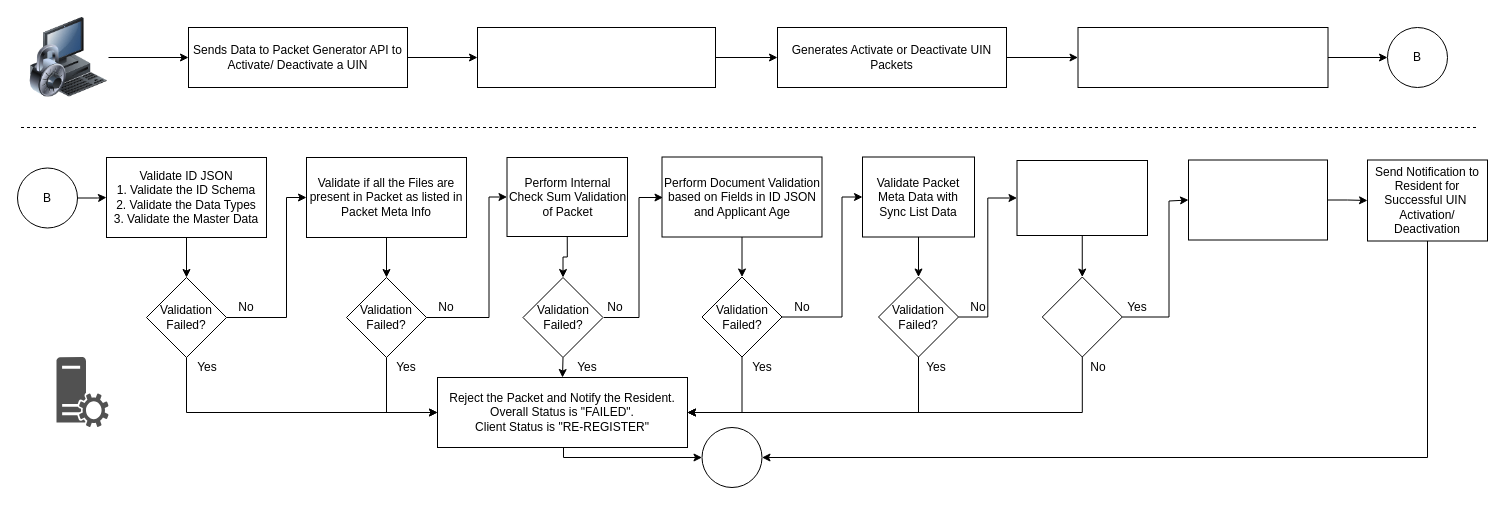
This 1505x505 diagram has some shape labels left out. The box of each missing label's shape, as (x1, y1, x2, y2) in pixels:
Activate/Deactivate the Resident based on Packet Type in ID Repository: (1188, 159, 1328, 240)
Check if UIN from Packet is Present in ID Repository?: (1016, 160, 1148, 236)
External System: (28, 17, 108, 97)
Packet Generator API: (476, 26, 716, 88)
Registration Processor: (56, 356, 108, 426)
Send Packet to Registration Processor for Pre-Processing: (1077, 26, 1328, 88)
Stop: (701, 426, 762, 488)
UIN is present?: (1041, 276, 1122, 357)
